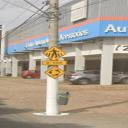Rotatoria: (44, 66, 66, 78)
